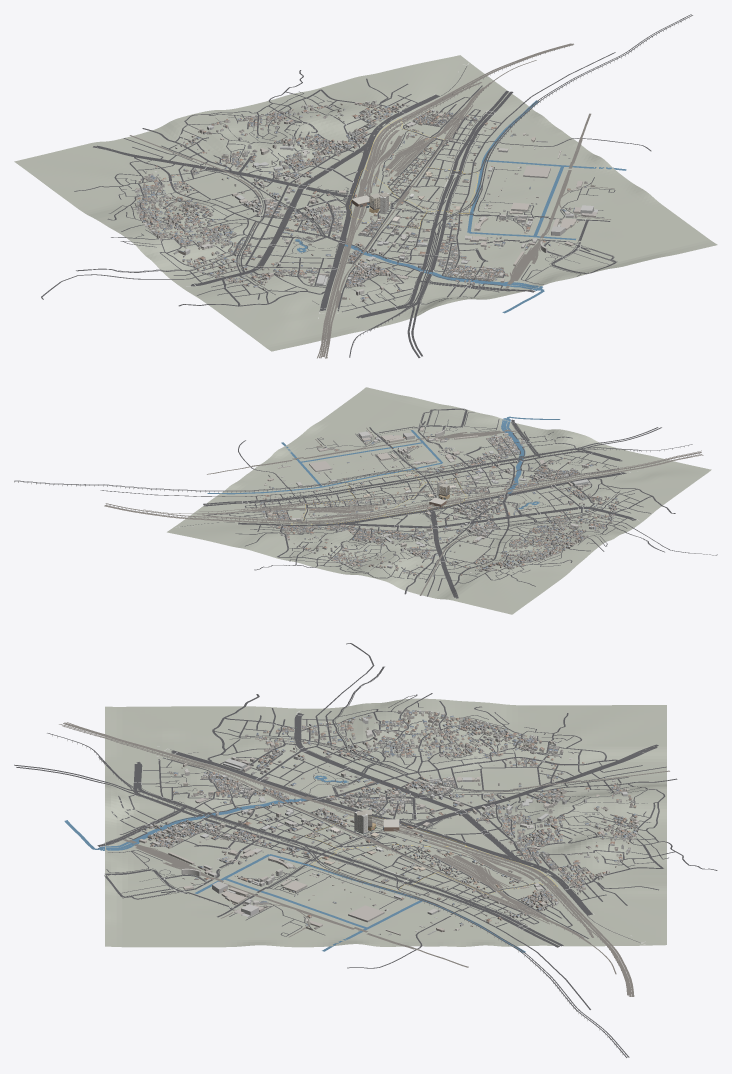
File: higashi.glb
3 views of the same model, one above another, from view 1: azimuth 30°, elevation 25°; view 2: azimuth 150°, elevation 25°; view 3: azimuth 270°, elevation 25° (orthographic). The views are drawn at different scales.
Visible parts, largest first — view 1: Terrain, road, rail, water, B_15450, B_81164, B_84780, B_70733, B_8515, B_52769, B_69542, B_79812 (+7 smaller); view 2: Terrain, road, rail, water, B_15450, B_81164, B_70733, B_79812, B_84780, B_52769, B_5573, B_8515 (+8 smaller); view 3: Terrain, road, rail, B_15450, water, B_81164, B_84780, B_70733, B_76208, B_8515, B_79812, B_52769 (+8 smaller).
Part boxes in pixels (x1,y1,x2,y2): Terrain: [14, 55, 717, 351]; road: [41, 14, 692, 357]; rail: [129, 43, 614, 358]; water: [295, 100, 626, 313]; B_15450: [134, 103, 598, 298]; B_81164: [137, 104, 595, 290]; B_84780: [135, 102, 597, 299]; B_70733: [135, 100, 577, 299]; B_8515: [136, 104, 576, 289]; B_52769: [136, 102, 587, 300]; B_69542: [135, 108, 577, 302]; B_79812: [137, 103, 578, 299]; Terrain: [167, 387, 711, 614]; road: [14, 408, 717, 598]; rail: [104, 427, 703, 595]; water: [207, 416, 560, 509]; B_15450: [263, 433, 615, 574]; B_81164: [262, 434, 617, 573]; B_70733: [260, 434, 618, 576]; B_79812: [260, 434, 616, 575]; B_84780: [260, 431, 618, 575]; B_52769: [263, 435, 615, 573]; B_5573: [260, 434, 617, 576]; B_8515: [261, 434, 616, 575]; Terrain: [105, 698, 666, 947]; road: [14, 643, 717, 1057]; rail: [59, 722, 669, 996]; B_15450: [150, 709, 637, 935]; water: [64, 775, 525, 952]; B_81164: [144, 711, 639, 931]; B_84780: [148, 709, 638, 929]; B_70733: [152, 710, 635, 931]; B_76208: [154, 710, 636, 934]; B_8515: [149, 710, 635, 914]; B_79812: [150, 712, 636, 926]; B_52769: [149, 711, 637, 928].
Size of the model in its own units: 3423 by 90.65 by 2455.
